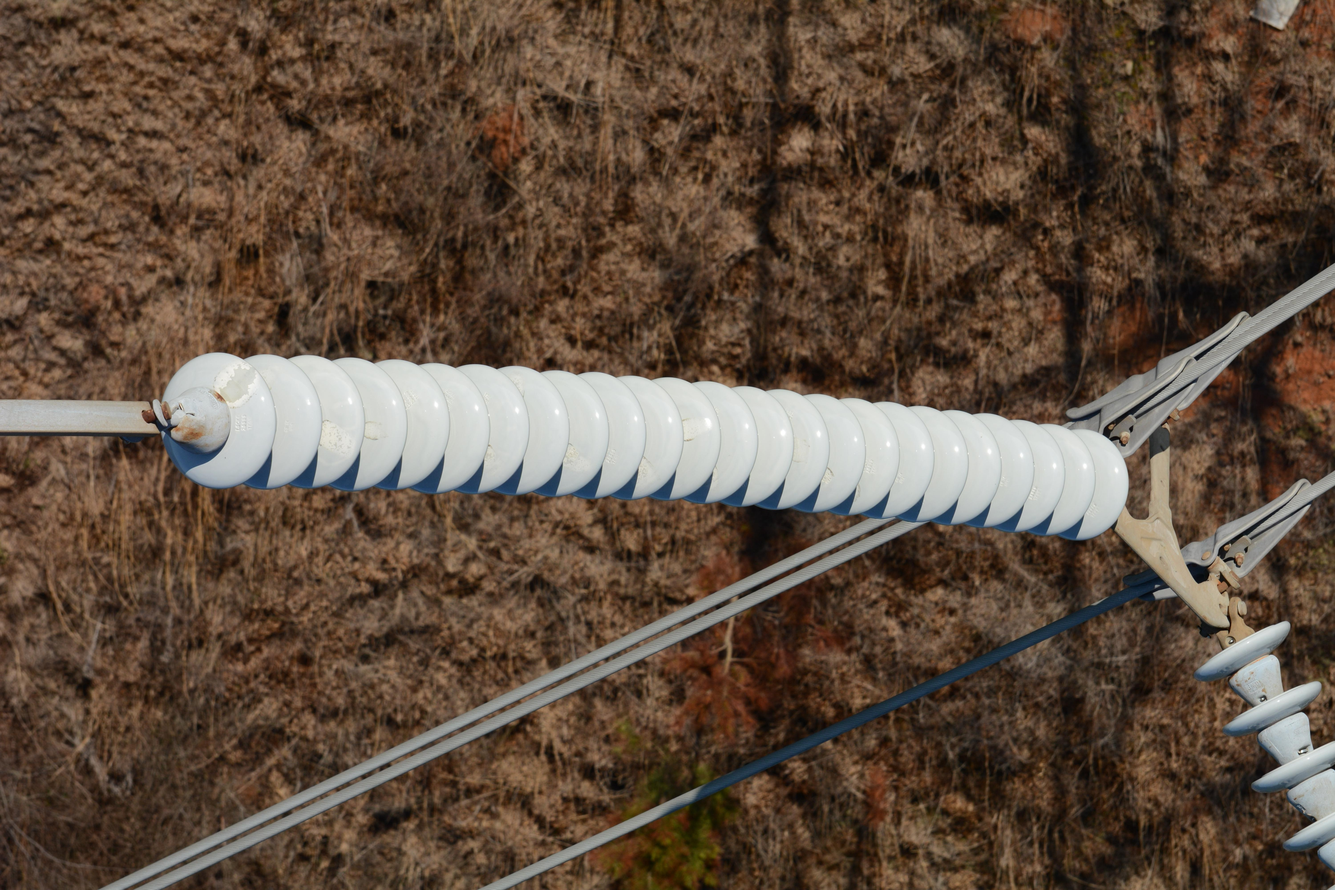Flashover: (211, 360, 257, 406), (315, 416, 355, 460), (787, 432, 823, 466), (561, 439, 594, 473), (679, 411, 711, 444), (482, 441, 510, 474), (363, 414, 394, 443), (629, 452, 657, 484)
insulator: (178, 352, 1120, 543), (1199, 624, 1335, 889)
